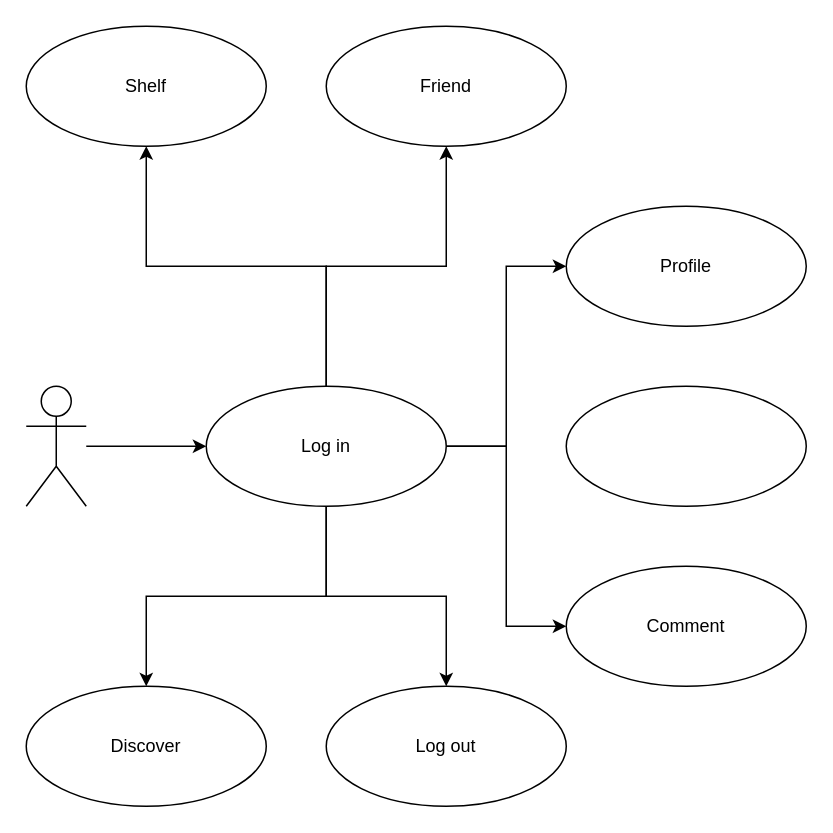
The diagram is 833 pixels wide and 833 high, and some of its shapes have lost their labels. The shapes that lost their labels are listed below. From the top down, each one's centre as x and y in pixels, then its label:
At [55,445]: "User".
At [685,445]: "Review".
